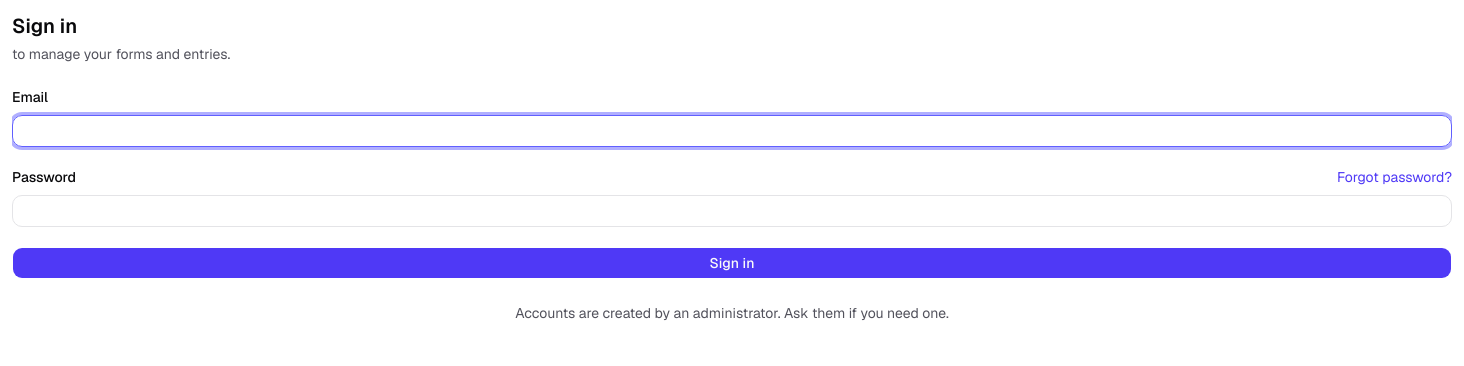
Scenario: LoginForm › checks the fields before sending anything
Type "not-an-email" into the field labelled "Email" at (732, 131), box x1=12 y1=115 x2=1452 y2=147
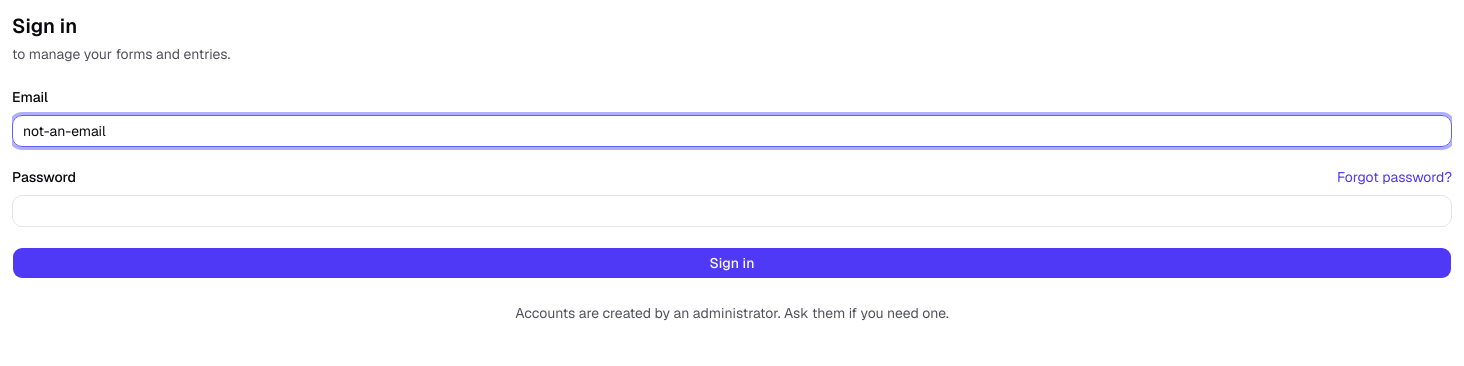
Type "x" into the password field labelled "Password" at (732, 211), box x1=12 y1=195 x2=1452 y2=227
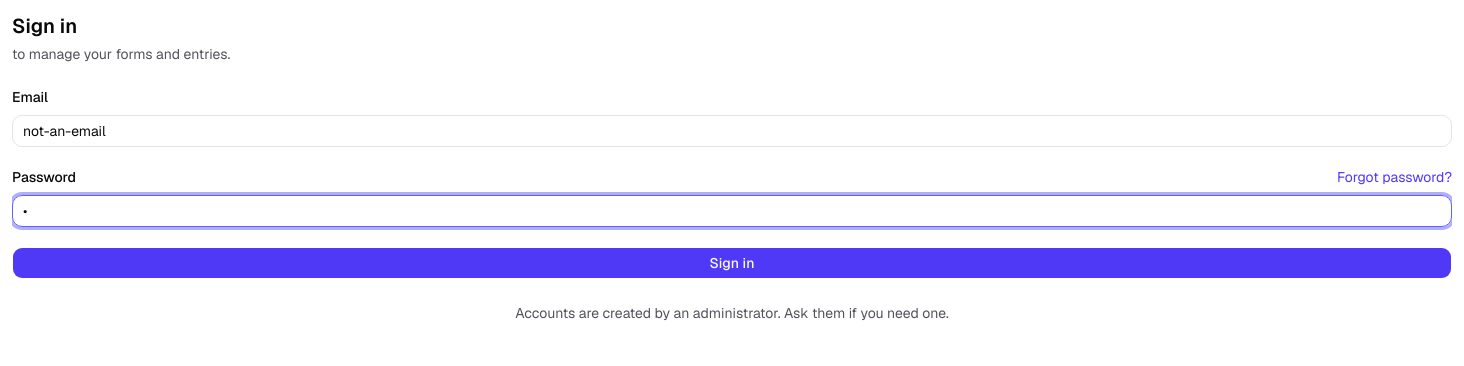
Click the button "Sign in" at (732, 263), box x1=12 y1=247 x2=1452 y2=279
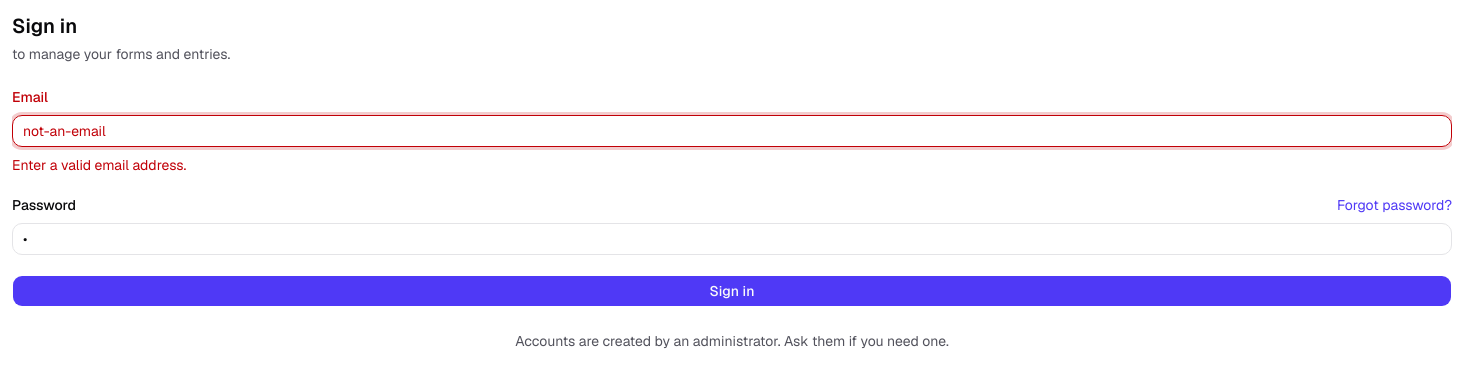
Expected: the text "Enter a valid email address." is shown, x1=12 y1=156 x2=186 y2=174
